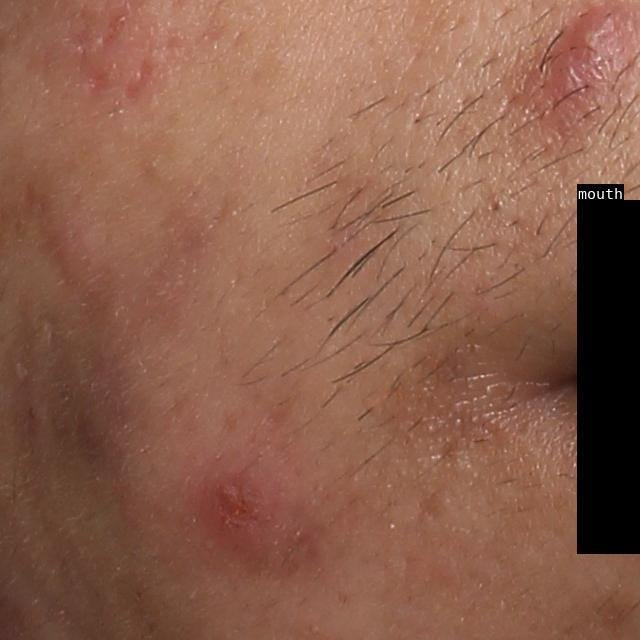atrophic_scar: (116, 53, 167, 111)
